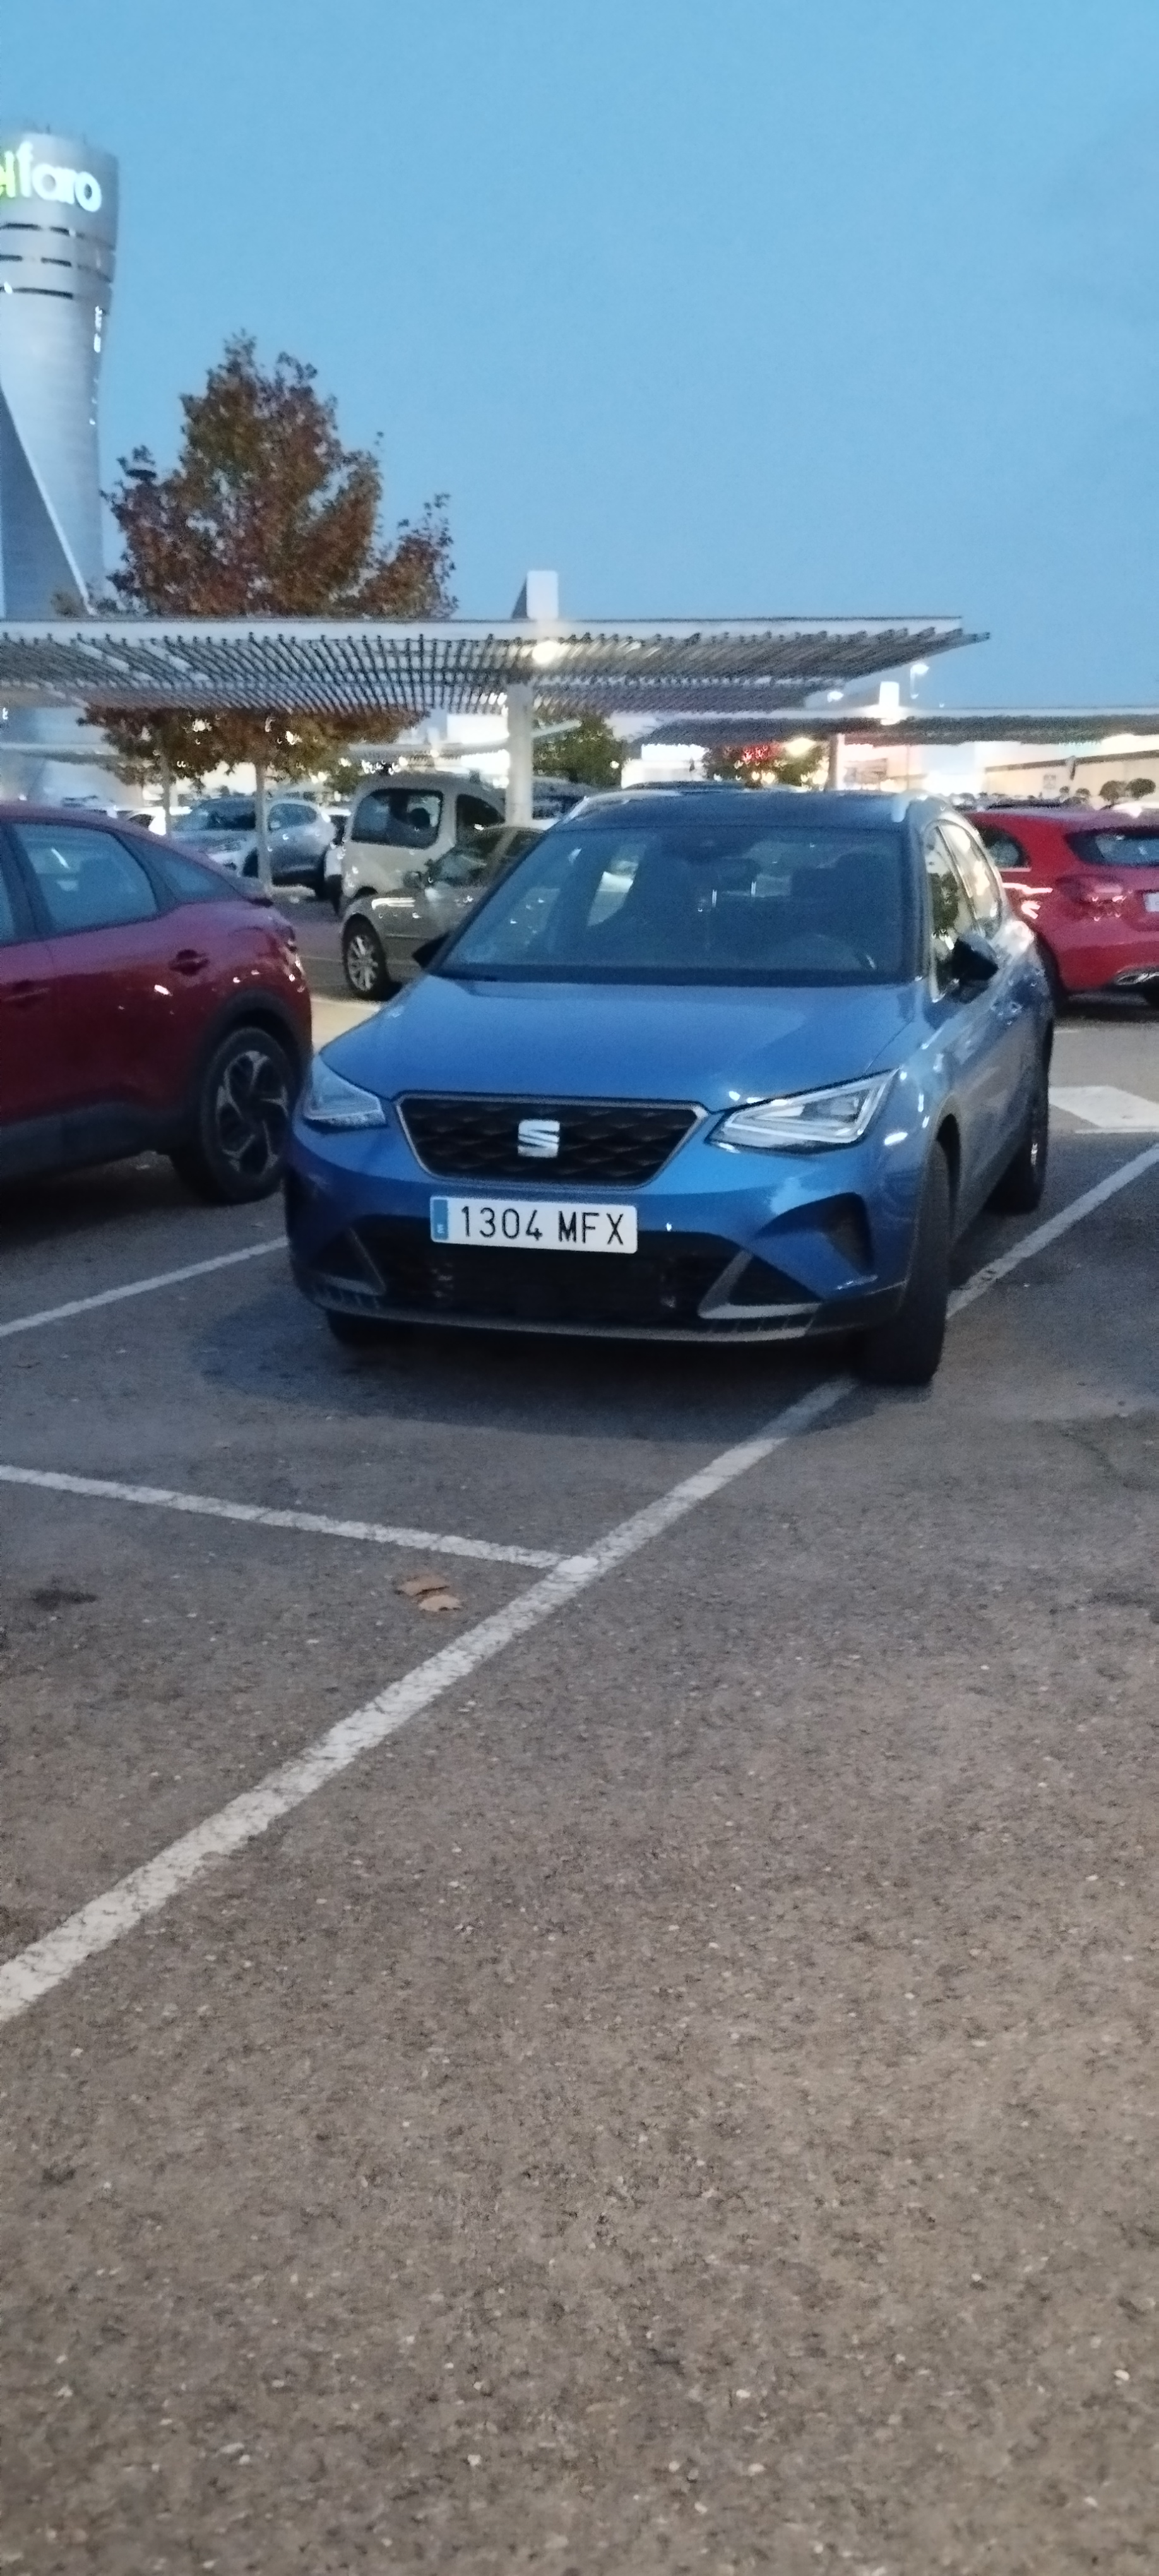Car: (287, 785, 1049, 1397)
Plate: (429, 1191, 636, 1259)
